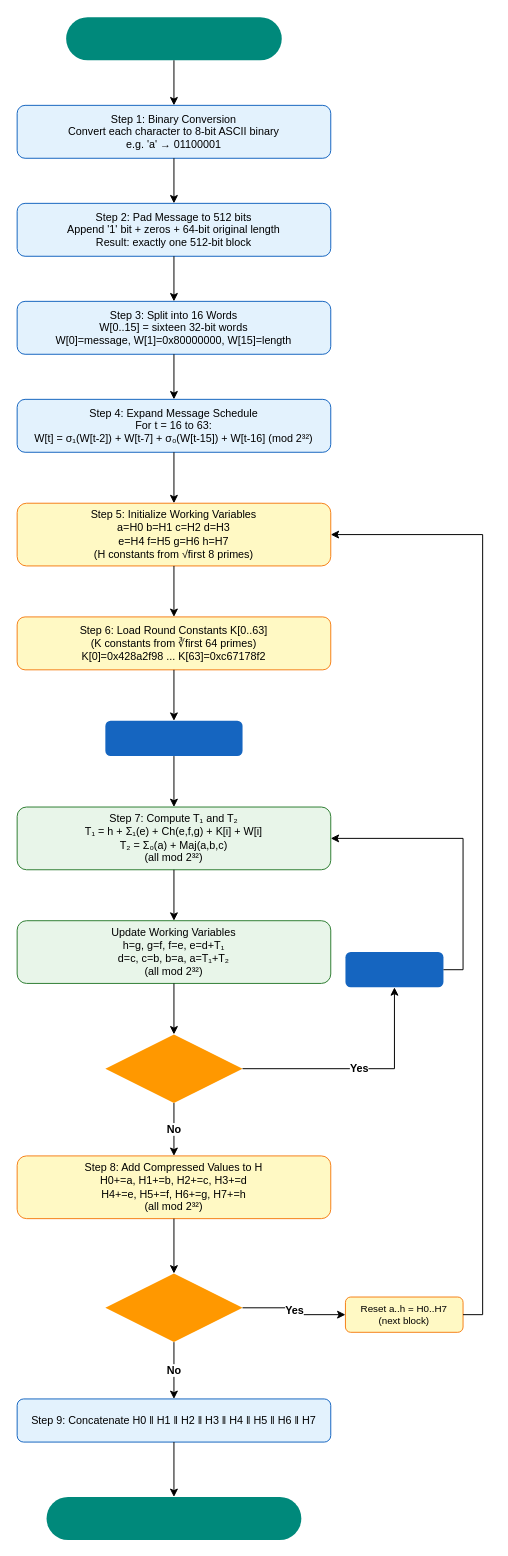
The diagram is 508 pixels wide and 1556 high, and some of its shapes have lost their labels. The shapes that lost their labels are listed below. From the top down, each one's box as (x1, y1, x2, y2) in pixels, then its label:
(66, 17, 281, 60): Start: Input Message
(105, 720, 242, 756): Set i = 0
(345, 952, 443, 987): i = i + 1
(105, 1034, 242, 1102): i < 63?
(105, 1273, 242, 1342): More 512-bit blocks?
(46, 1496, 301, 1540): Output: 256-bit Hash Digest
